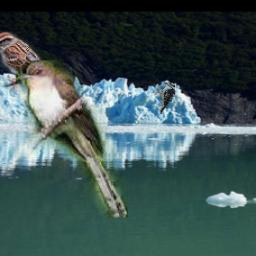Cuckoo: (16, 60, 128, 218)
Sparrow: (0, 33, 58, 101)
Woodpecker: (156, 81, 177, 114)
